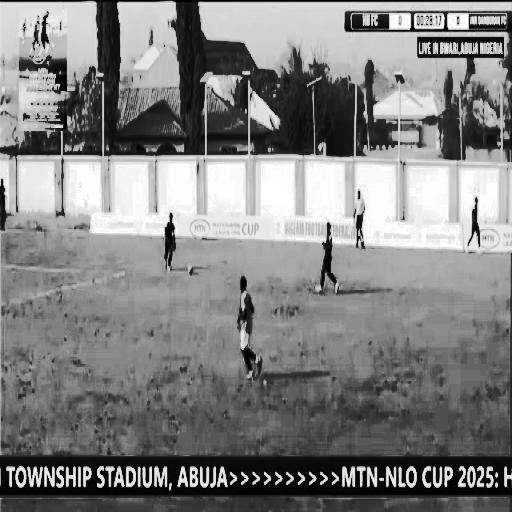ball: (183, 257, 195, 279)
referee: (349, 184, 368, 255)
team1: (238, 272, 264, 378)
team2: (159, 206, 180, 276), (320, 220, 338, 294), (467, 193, 485, 257)
